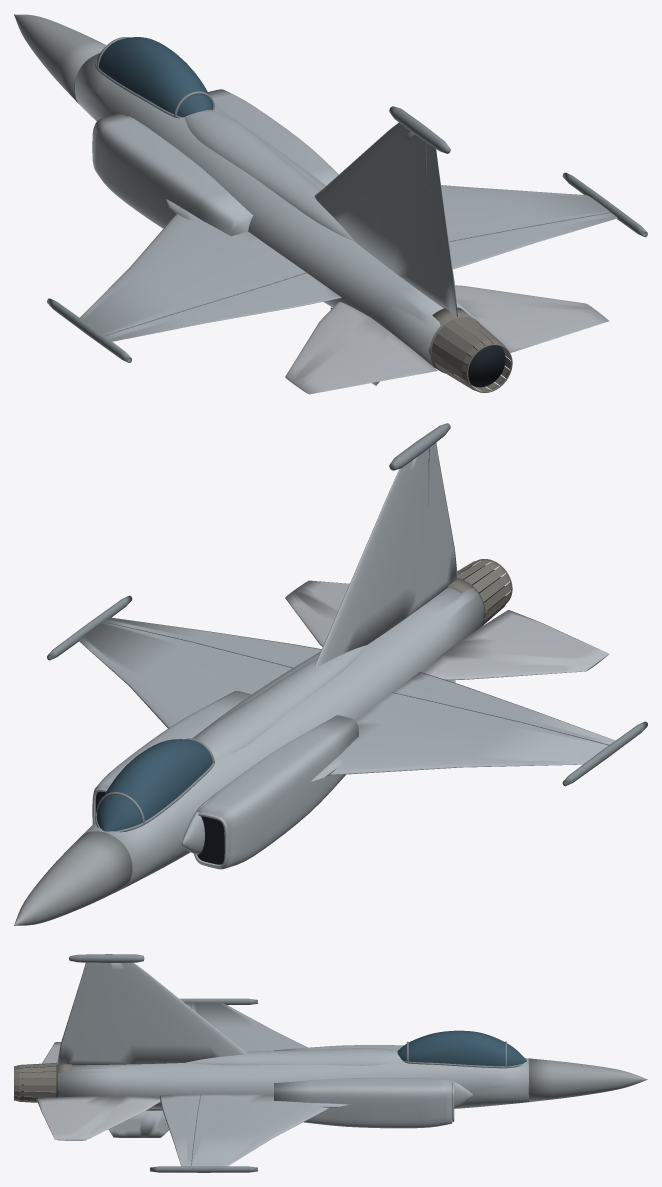
The picture shows the model from 3 angles, top to bottom: view 1: azimuth 30°, elevation 25°; view 2: azimuth 150°, elevation 25°; view 3: azimuth 270°, elevation 25°; orthographic projection. The views are drawn at different scales.
Parts seen in each view (by area): view 1: static.airframe | neutral grey, static.control surfaces, static.tinted canopy, static.nozzle titanium, static.dielectric radome, static.canopy frame, static.deep recess, static.panel seams; view 2: static.airframe | neutral grey, static.control surfaces, static.dielectric radome, static.tinted canopy, static.canopy frame, static.nozzle titanium, static.deep recess, static.panel seams; view 3: static.airframe | neutral grey, static.control surfaces, static.tinted canopy, static.dielectric radome, static.canopy frame, static.nozzle titanium.
Boxes of the visible parts, x1=… form: static.airframe | neutral grey: x1=75, y1=53, x2=617, y2=385; static.control surfaces: x1=92, y1=128, x2=609, y2=394; static.tinted canopy: x1=96, y1=37, x2=213, y2=117; static.nozzle titanium: x1=429, y1=307, x2=512, y2=392; static.dielectric radome: x1=14, y1=14, x2=106, y2=103; static.canopy frame: x1=47, y1=37, x2=647, y2=362; static.deep recess: x1=462, y1=341, x2=505, y2=387; static.panel seams: x1=74, y1=52, x2=611, y2=335; static.airframe | neutral grey: x1=78, y1=443, x2=615, y2=887; static.control surfaces: x1=92, y1=580, x2=609, y2=867; static.dielectric radome: x1=14, y1=831, x2=131, y2=925; static.tinted canopy: x1=96, y1=739, x2=212, y2=831; static.canopy frame: x1=47, y1=423, x2=647, y2=832; static.nozzle titanium: x1=448, y1=559, x2=512, y2=626; static.deep recess: x1=95, y1=565, x2=504, y2=864; static.panel seams: x1=94, y1=447, x2=609, y2=876; static.airframe | neutral grey: x1=56, y1=962, x2=528, y2=1166; static.control surfaces: x1=36, y1=1042, x2=454, y2=1140; static.tinted canopy: x1=397, y1=1030, x2=526, y2=1066; static.dielectric radome: x1=529, y1=1058, x2=647, y2=1102; static.canopy frame: x1=69, y1=954, x2=523, y2=1172; static.nozzle titanium: x1=14, y1=1062, x2=71, y2=1102.
Size of the model in its own units: 9.46 by 4.43 by 14.91.
